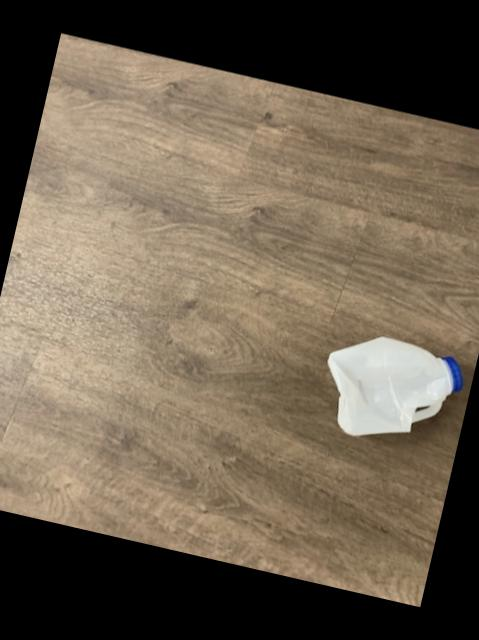plastic: (325, 338, 459, 436)
